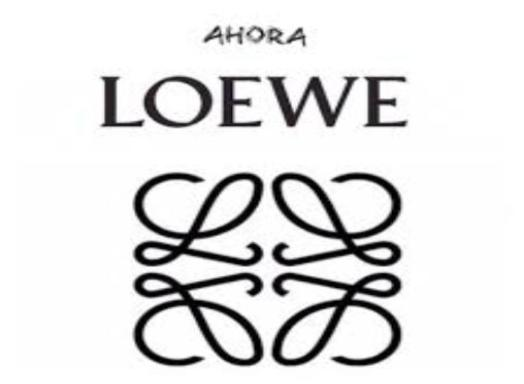LOEWE: (62, 69, 424, 373)
